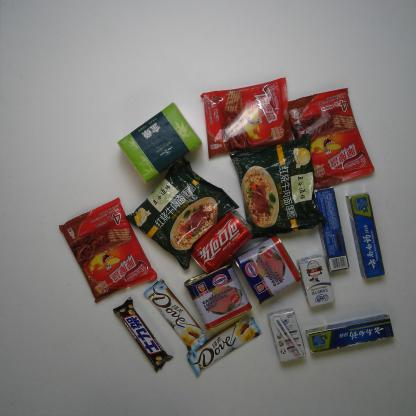Canned Food: (181, 260, 254, 332), (232, 232, 303, 306)
Chocolate: (142, 277, 210, 355), (111, 295, 176, 373), (183, 315, 263, 378)
Dessert: (54, 195, 160, 305), (281, 84, 377, 193), (199, 76, 295, 161)
Drink: (188, 208, 256, 276)
Instant Noodles: (123, 153, 243, 272), (228, 131, 331, 242)
Milk: (266, 305, 309, 365), (295, 252, 338, 309)
Personal Hygiene: (343, 189, 387, 281), (303, 313, 396, 355), (311, 185, 352, 274)
Tissue: (114, 100, 205, 187)
